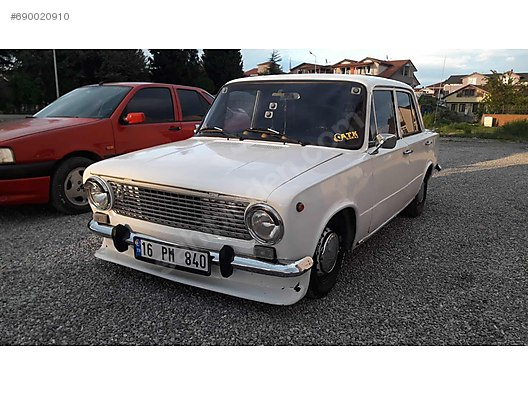murat: (81, 72, 441, 309)
